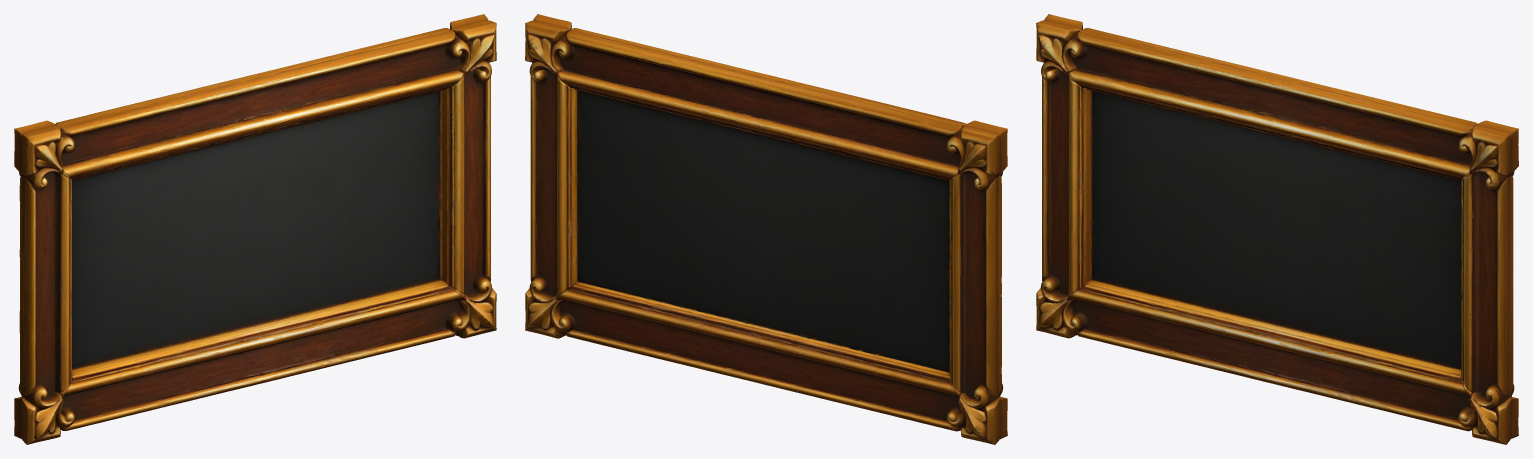
The model's file is 1k-pic-frame.glb.
The picture shows the model from 3 angles, left to right: view 1: azimuth 30°, elevation 25°; view 2: azimuth 150°, elevation 25°; view 3: azimuth 330°, elevation 25°; orthographic projection.
Parts seen in each view (by area): view 1: tripo_node_1a89248b-7545-4227-b472-7457da14428a; view 2: tripo_node_1a89248b-7545-4227-b472-7457da14428a; view 3: tripo_node_1a89248b-7545-4227-b472-7457da14428a.
Part boxes in pixels (box(x1,y1,x2,y2)): tripo_node_1a89248b-7545-4227-b472-7457da14428a: box(14, 14, 496, 444); tripo_node_1a89248b-7545-4227-b472-7457da14428a: box(525, 14, 1007, 444); tripo_node_1a89248b-7545-4227-b472-7457da14428a: box(1036, 14, 1518, 444).
Bounding box in the file's own units: 0.9802 × 0.6131 × 0.0876.
1 material, 1 textured.
